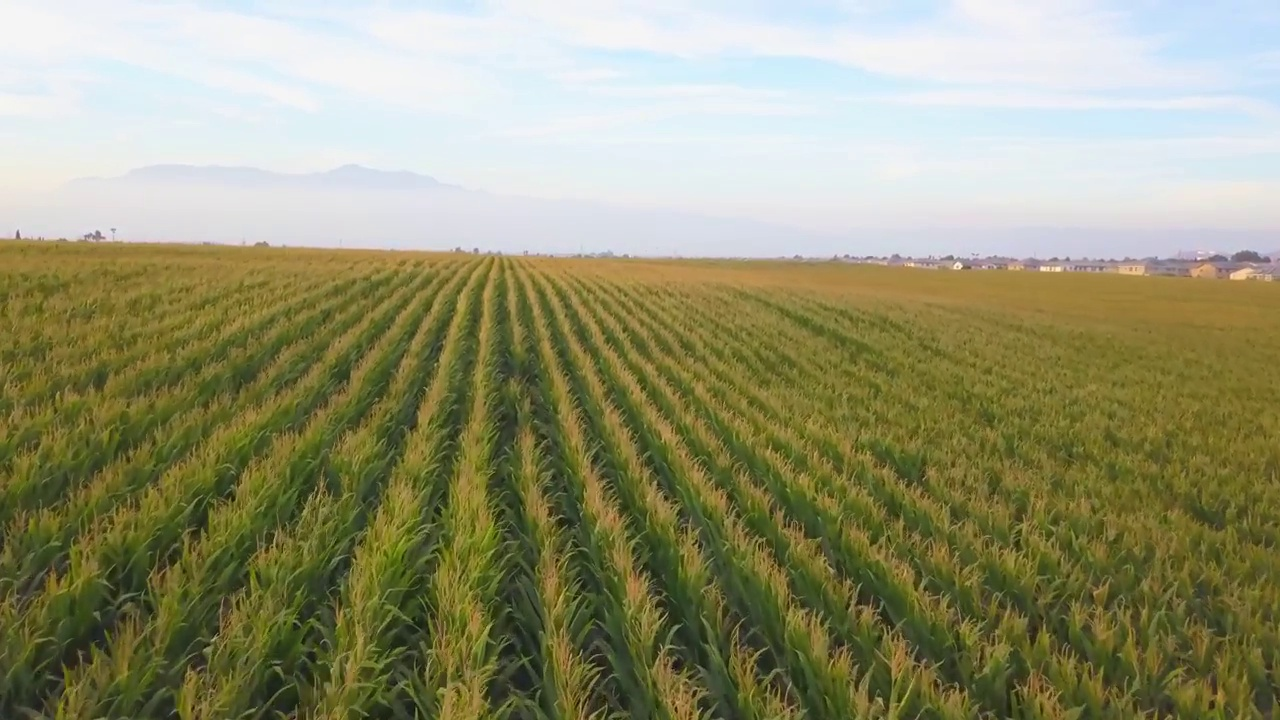Wheat: (283, 328, 1095, 655)
